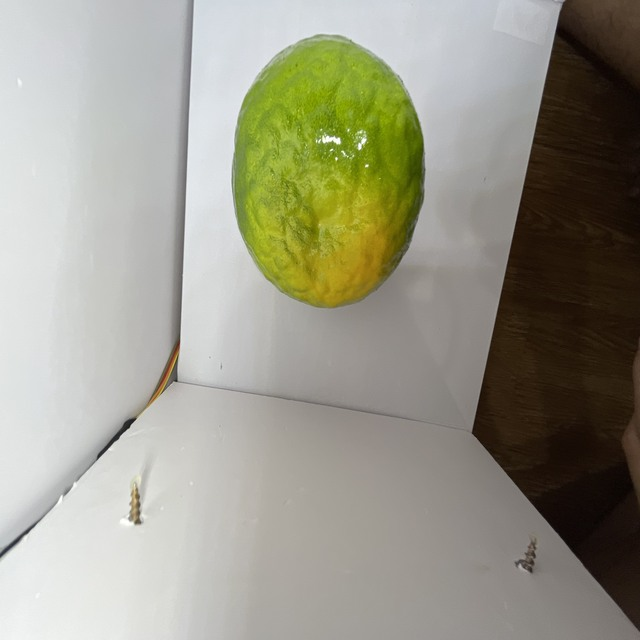Cam xanh: (226, 29, 432, 310)
